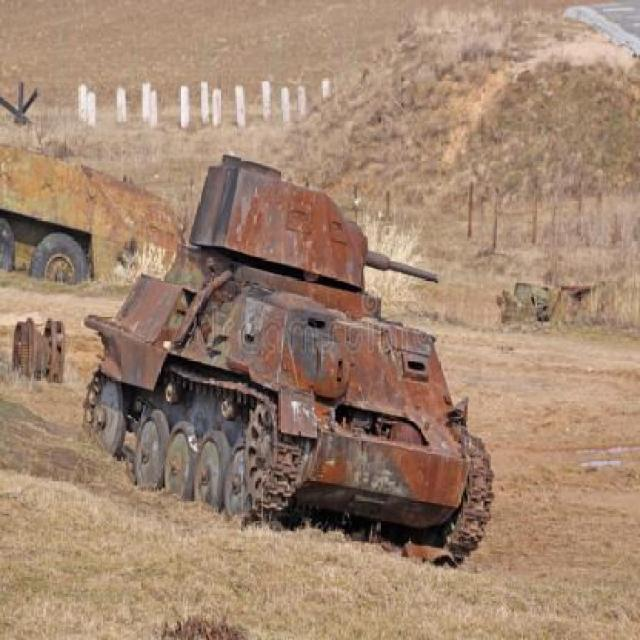corrosion: (82, 155, 490, 573)
